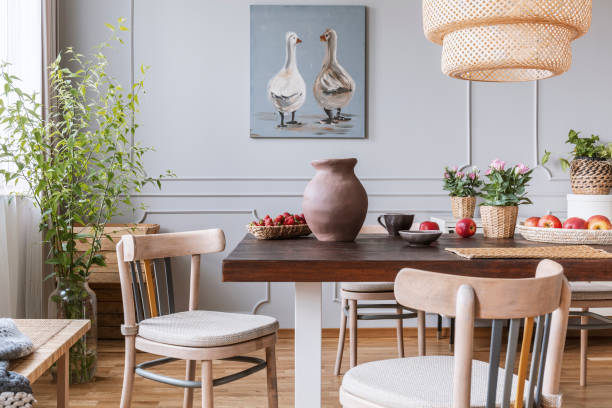dining table set: (112, 212, 612, 407)
flower vase: (480, 158, 535, 237), (442, 162, 481, 219)
large plant: (0, 20, 144, 386)
small plant: (560, 125, 612, 194)
table: (0, 313, 94, 407)
wall art: (247, 0, 369, 140)
